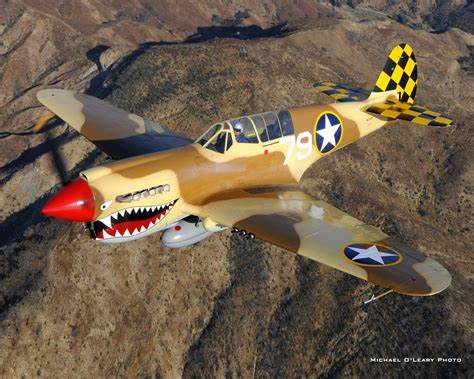Aeronef_militaire: (25, 38, 459, 305)
